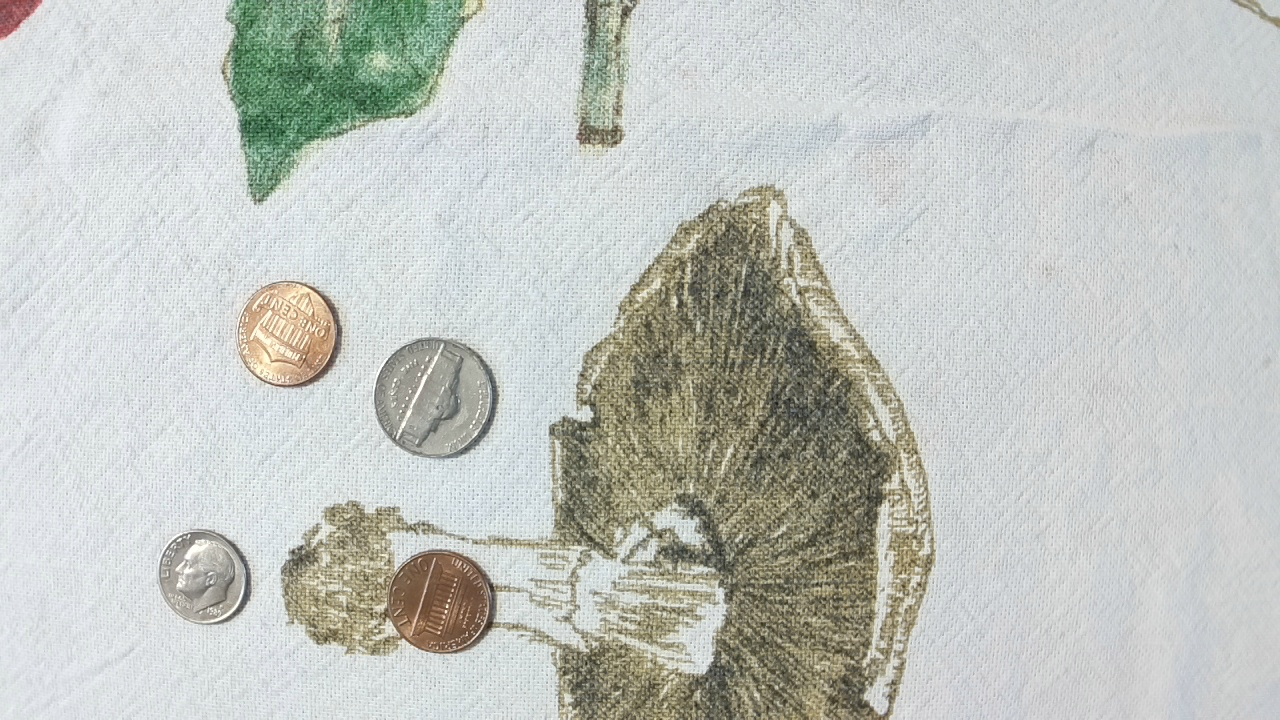dime: (156, 526, 250, 630)
nickel: (368, 334, 500, 460)
penny: (234, 277, 342, 389), (386, 548, 494, 654)
